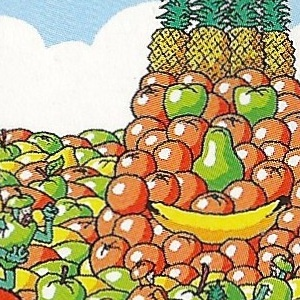Charlie: (115, 76, 185, 224)
